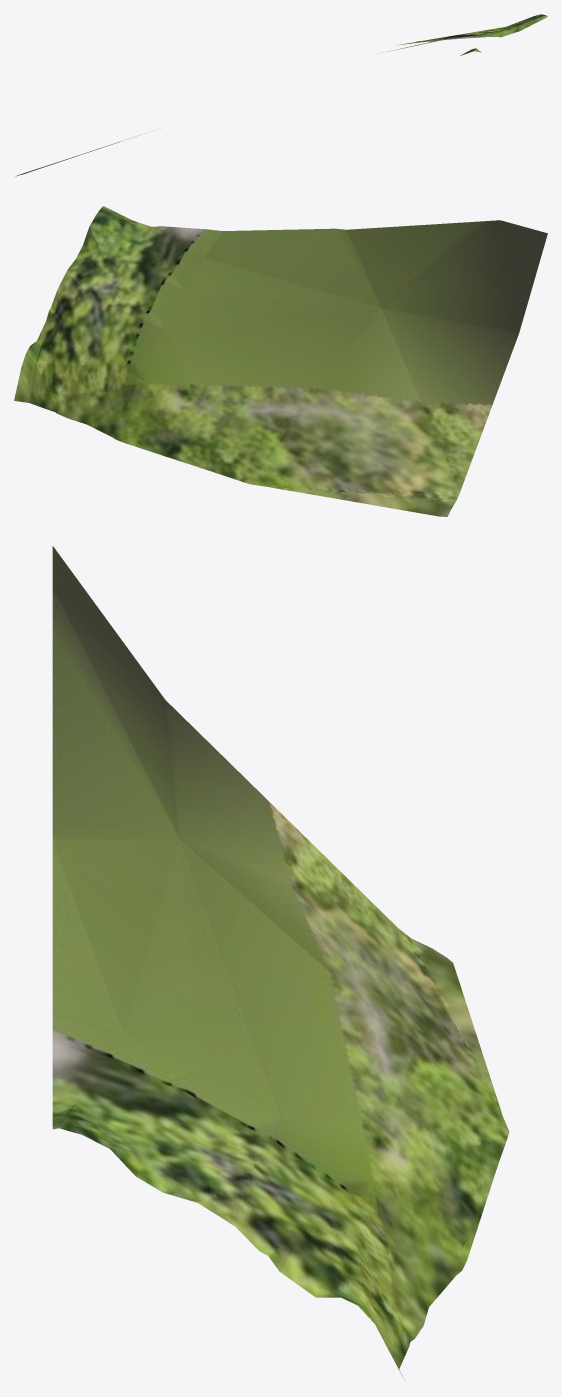
The picture shows the model from 3 angles, top to bottom: view 1: azimuth 30°, elevation 25°; view 2: azimuth 150°, elevation 25°; view 3: azimuth 270°, elevation 25°; orthographic projection. The views are drawn at different scales.
Bounding box in the file's own units: 26.11 × 11.89 × 11.86.
2 materials, 2 textured.
